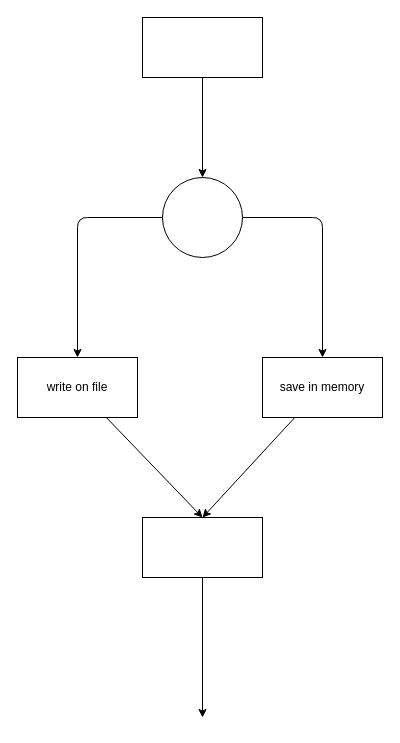
Some shapes in this 400 by 743 pixel diagram are drawn without their labels. Here are the shapes that lost their labels. From the top down, the centre of each, then its label:
At [202,47]: "write Cache".
At [202,547]: "send".
